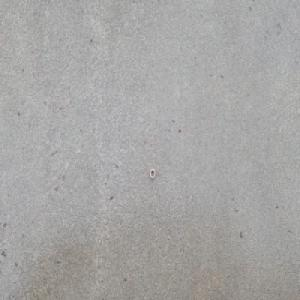Nut: (149, 167, 155, 179)
